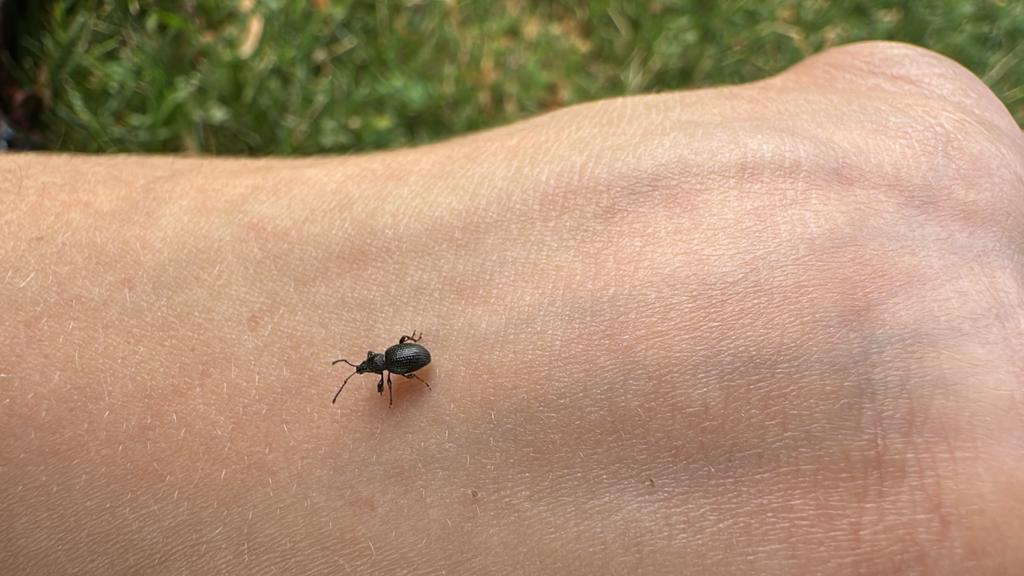weevils: (307, 316, 452, 424)
